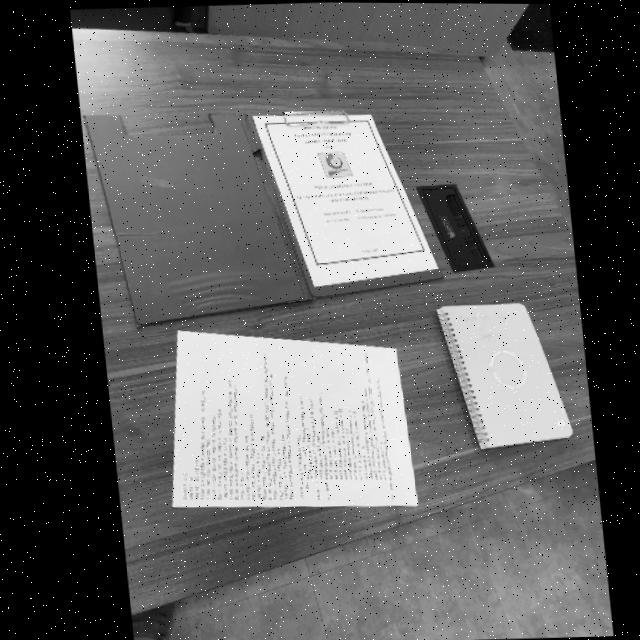document: (172, 331, 417, 507), (252, 114, 438, 287), (437, 303, 572, 448)
